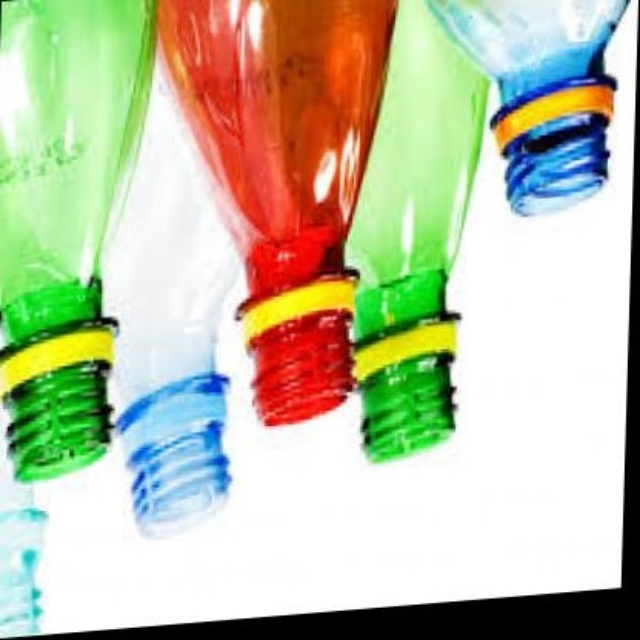trash: (158, 0, 395, 425), (0, 0, 154, 480), (346, 0, 486, 462)
